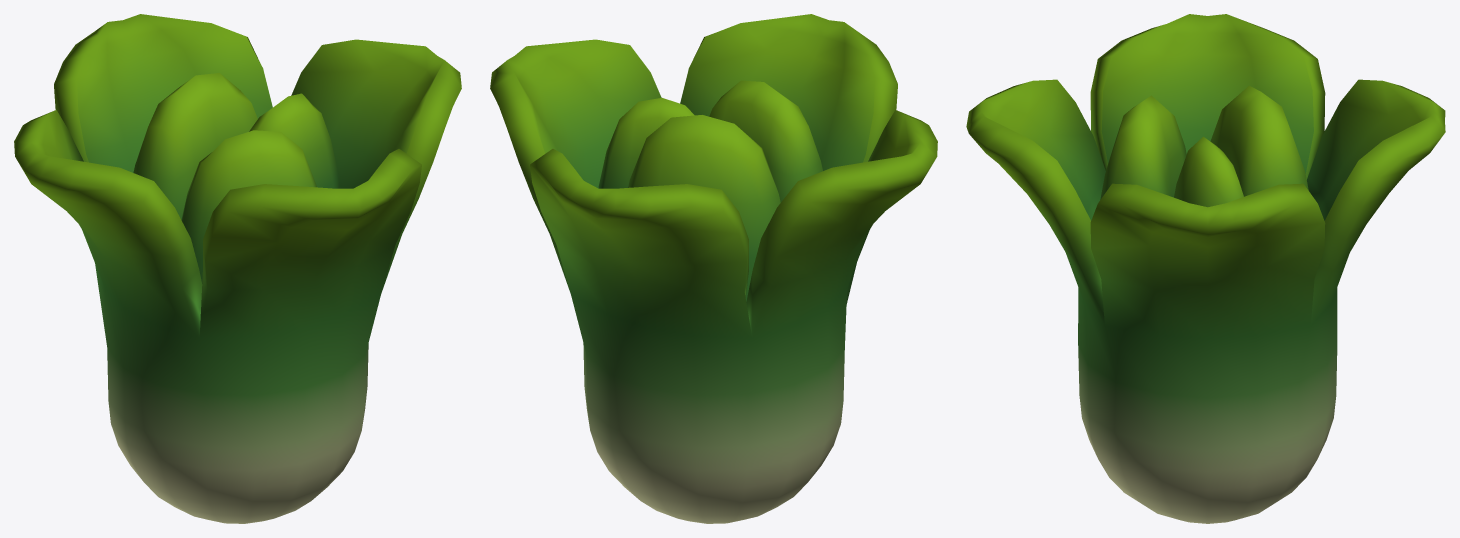
Rendered from Lattuce.fbx.
3 views of the same model, side by side, from view 1: azimuth 30°, elevation 25°; view 2: azimuth 150°, elevation 25°; view 3: azimuth 270°, elevation 25° (orthographic).
Visible parts, largest first — view 1: Lattuse; view 2: Lattuse; view 3: Lattuse.
Boxes of the visible parts, <box> form: Lattuse: <box>14,14,461,523</box>; Lattuse: <box>490,14,937,523</box>; Lattuse: <box>966,14,1445,523</box>.
Size of the model in its own units: 30.48 by 28.87 by 30.33.
